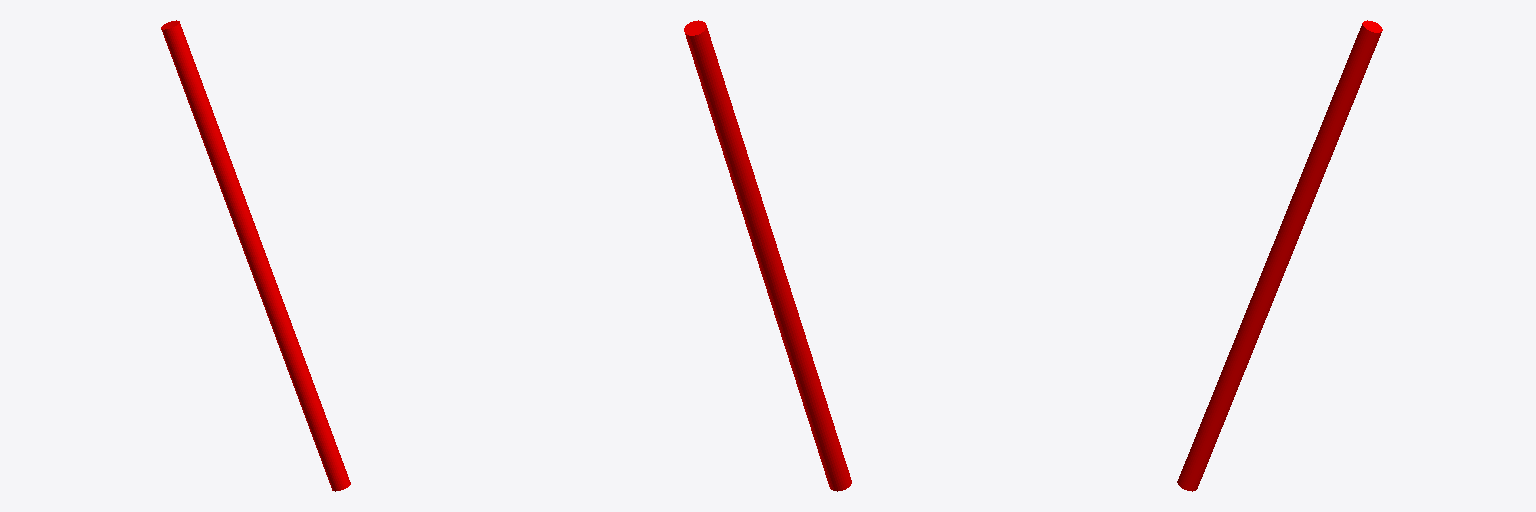
The robot description file, URDF, robot "tree_68.urdf":
<?xml version='1.0' encoding='utf-8'?>
<robot name="tree_68.urdf">
  <link name="branch_0">
    <inertial>
      <origin xyz="0.0 0.0 0.0" rpy="0.0 -0.0 0.0" />
      <mass value="1.0" />
      <inertia ixx="1.0" ixy="0.0" ixz="0.0" iyy="1.0" iyz="0.0" izz="1.0" />
    </inertial>
    <visual name="branch_0_visual">
      <geometry>
        <cylinder radius="0.04684290987449336" length="2.453069257333661" />
      </geometry>
      <material name="semantic_material" />
      <origin xyz="0.10520993663540326 0.4040762201961697 1.1532738065281942" rpy="-1.3877787807814457e-17 0.34737355402302933 1.3160803112180577" />
    </visual>
    <collision name="branch_0_collision">
      <geometry>
        <cylinder radius="0.04684290987449336" length="2.453069257333661" />
      </geometry>
      <origin xyz="0.10520993663540326 0.4040762201961697 1.1532738065281942" rpy="-1.3877787807814457e-17 0.34737355402302933 1.3160803112180577" />
    </collision>
  </link>
  <material name="semantic_material">
    <color rgba="1. 0. 0. 1." />
  </material>
</robot>

--- Render facts (derived) ---
3 views of the same robot in one strip: view 1: azimuth 90°, elevation 25°; view 2: azimuth 150°, elevation 25°; view 3: azimuth 270°, elevation 25° (orthographic).
Model tree_68.urdf with 1 links and 0 joints (none), rooted at branch_0, posed every joint at zero.
Links seen in each view (by area): view 1: branch_0; view 2: branch_0; view 3: branch_0.
Boxes of the visible links, bbox=[...] form: branch_0: bbox=[161, 20, 350, 491]; branch_0: bbox=[684, 20, 851, 491]; branch_0: bbox=[1177, 20, 1382, 491].
Size in the robot's own frame: 0.3037 by 0.8964 by 2.34 metres.
Geometry: primitives only (box / cylinder / sphere), no mesh files.